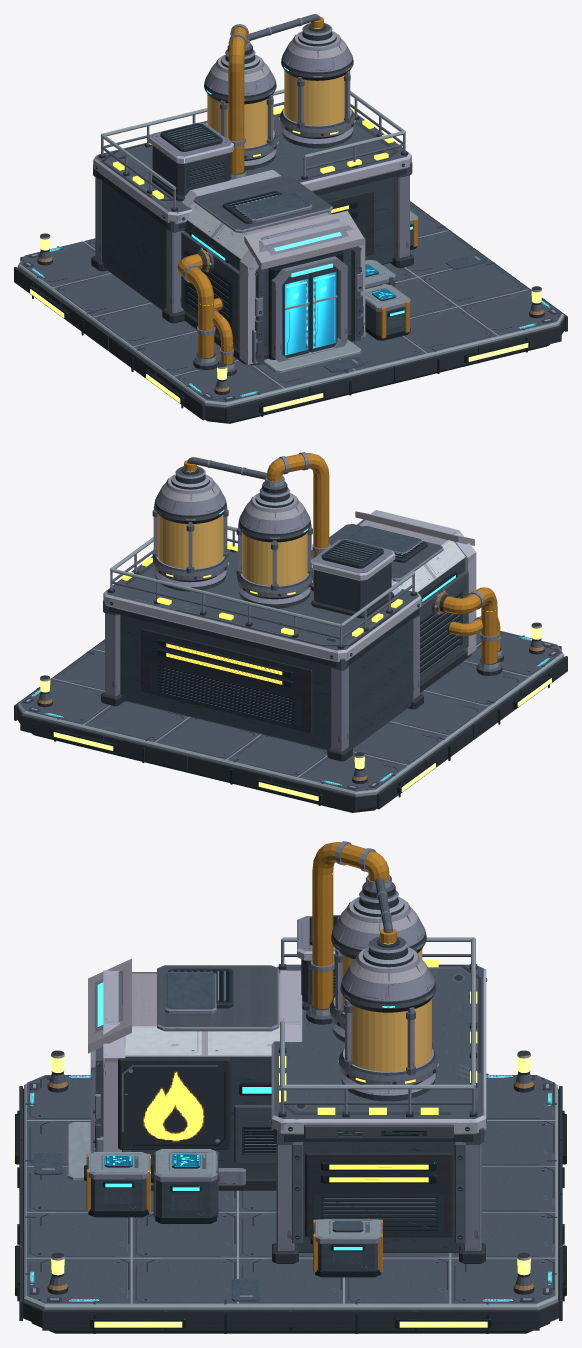
Rendered from RF02_RefineriaModular.fbx.
3 views of the same model, one above another, from view 1: azimuth 30°, elevation 25°; view 2: azimuth 150°, elevation 25°; view 3: azimuth 270°, elevation 25° (orthographic). The views are drawn at different scales.
Parts seen in each view (by area): view 1: Estructura_2, CristalYRefineria_2; view 2: Estructura_2, CristalYRefineria_2; view 3: Estructura_2, CristalYRefineria_2.
Part boxes in pixels (x1,y1,x2,y2): Estructura_2: (14, 14, 567, 423); CristalYRefineria_2: (207, 70, 350, 147); Estructura_2: (14, 452, 567, 812); CristalYRefineria_2: (157, 514, 307, 585); Estructura_2: (14, 841, 567, 1333); CristalYRefineria_2: (335, 948, 431, 1071).
Size of the model in its own units: 6.05 by 4.23 by 5.92.
